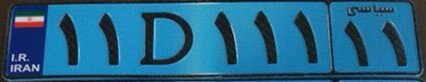1: (210, 6, 245, 68), (250, 7, 285, 67), (94, 7, 127, 68), (290, 7, 322, 65), (378, 17, 412, 70), (57, 9, 85, 68), (342, 18, 373, 70)
D: (136, 9, 196, 69)
